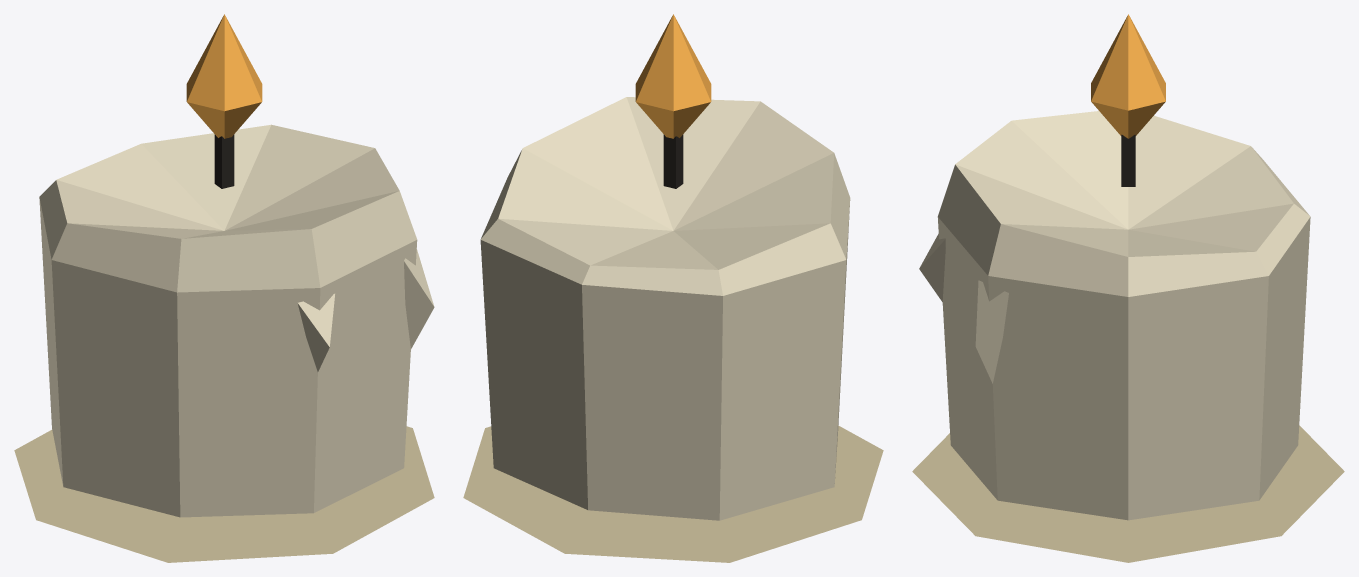
The model's file is candle_short.glb.
3 renders of one model, left to right at view 1: azimuth 30°, elevation 25°; view 2: azimuth 150°, elevation 25°; view 3: azimuth 270°, elevation 25°, orthographic.
Visible parts, largest first — view 1: Cera derretida, Charco, Llama, Gota.001, Gota, Mecha; view 2: Cera derretida, Charco, Llama, Mecha; view 3: Cera derretida, Charco, Llama, Gota.001, Gota, Mecha.
Part boxes in pixels (x1,y1,x2,y2): Cera derretida: (39,124,417,517); Charco: (14,426,434,562); Llama: (186,14,262,138); Gota.001: (404,249,434,348); Gota: (297,293,334,371); Mecha: (214,134,234,188); Cera derretida: (480,97,850,520); Charco: (463,425,883,562); Llama: (635,14,711,138); Mecha: (663,134,683,188); Cera derretida: (937,111,1310,520); Charco: (912,425,1344,562); Llama: (1091,14,1165,138); Gota.001: (975,280,1008,383); Gota: (919,234,945,301); Mecha: (1121,134,1135,186).
Bounding box in the file's own units: 0.06 × 0.07 × 0.06.
